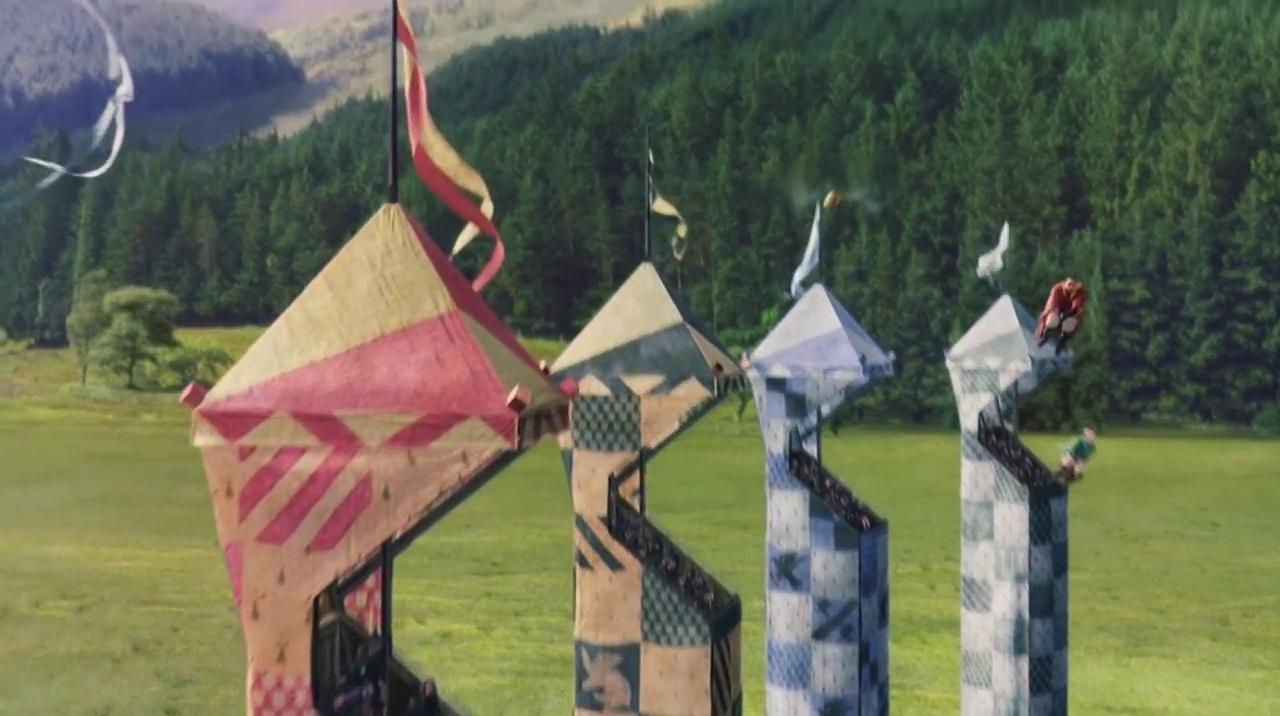snitch: (819, 188, 840, 211)
